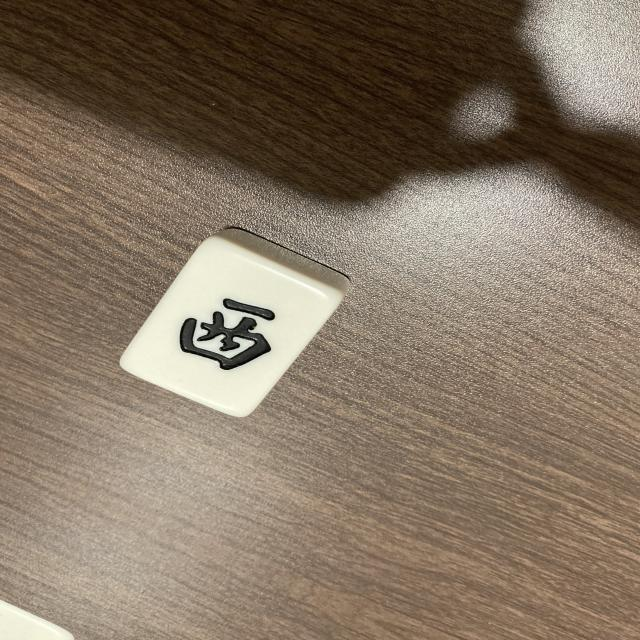west: (130, 232, 340, 422)
